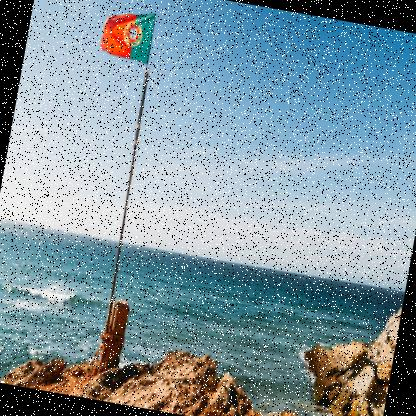pt: (99, 6, 156, 66)
